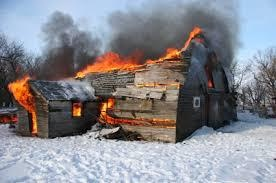fire: (76, 47, 185, 72), (5, 73, 36, 122), (98, 96, 114, 119)
